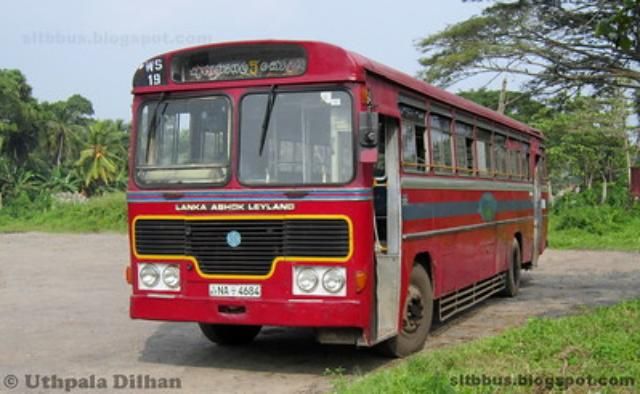bus: (125, 38, 547, 356)
